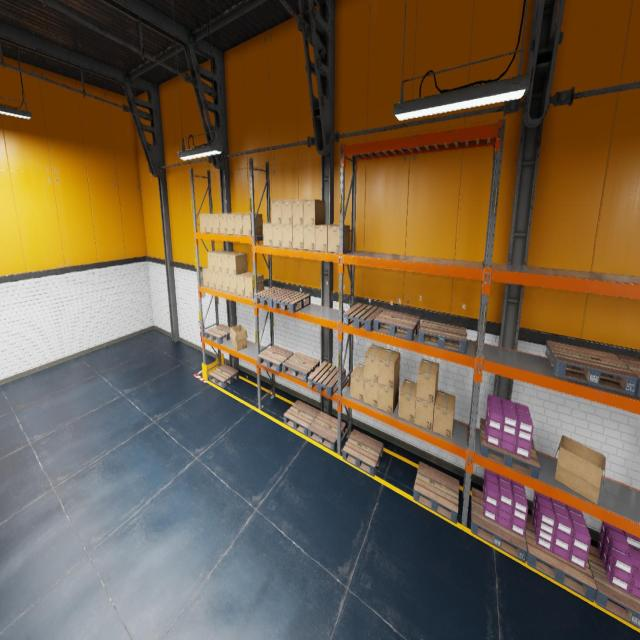box: (554, 436, 606, 504), (416, 358, 439, 404), (433, 391, 455, 439), (364, 344, 386, 384), (379, 348, 400, 389), (398, 379, 417, 424), (414, 393, 436, 431), (378, 378, 399, 414), (328, 225, 350, 252), (303, 200, 325, 225), (350, 363, 364, 402), (315, 225, 336, 251), (244, 274, 264, 298), (230, 325, 248, 351), (242, 214, 263, 236), (228, 253, 248, 275), (236, 272, 254, 296), (364, 379, 378, 408), (221, 252, 239, 273), (214, 251, 232, 272), (208, 250, 225, 271), (234, 214, 249, 235), (292, 224, 304, 250), (303, 225, 315, 250), (292, 200, 303, 225), (281, 200, 292, 225), (271, 201, 282, 224), (282, 225, 293, 248), (272, 224, 282, 247), (226, 214, 236, 235), (263, 223, 272, 246), (229, 274, 237, 294), (219, 214, 227, 234), (222, 273, 230, 292), (208, 270, 216, 289), (212, 214, 220, 233), (215, 272, 223, 290), (206, 214, 213, 233), (200, 214, 207, 232), (203, 267, 209, 287)
pallets: (524, 514, 596, 602), (546, 341, 638, 395), (588, 545, 640, 629), (471, 488, 527, 563), (480, 418, 540, 479), (414, 462, 459, 523), (343, 429, 383, 476), (418, 320, 467, 354), (308, 411, 346, 451), (374, 309, 420, 341), (284, 400, 320, 436), (308, 362, 346, 396), (282, 352, 320, 382), (344, 303, 384, 331), (258, 345, 294, 373), (616, 355, 640, 396), (273, 291, 310, 313), (208, 364, 238, 388), (254, 287, 290, 307), (205, 324, 230, 344)
